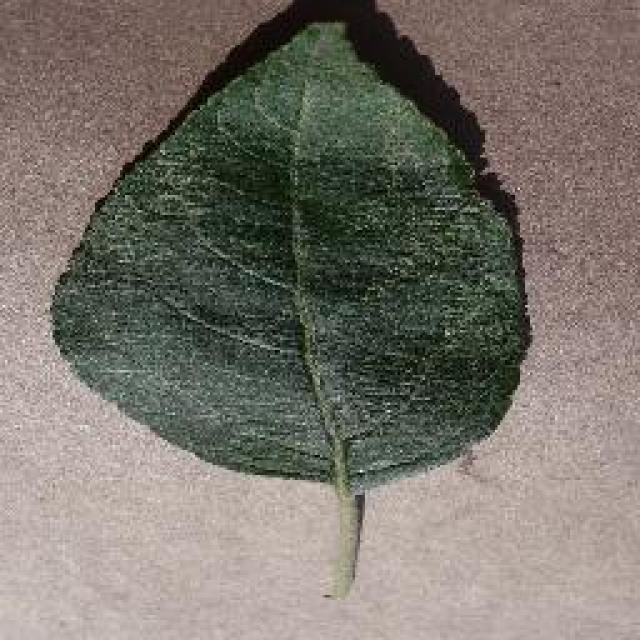apple scab disease: (48, 13, 532, 595)
